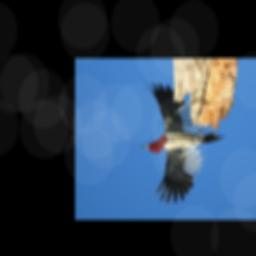Woodpecker: (141, 82, 225, 204)
